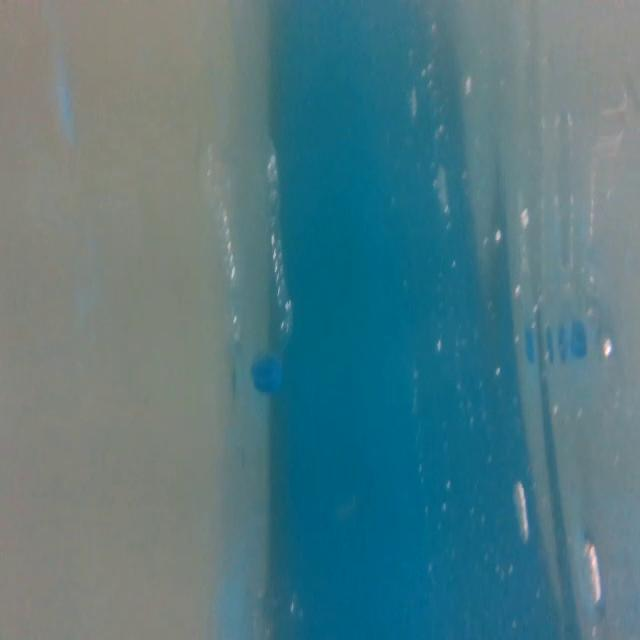plastic bottle: (188, 119, 304, 400)
